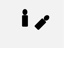human: (33, 13, 49, 30), (20, 7, 29, 27)
